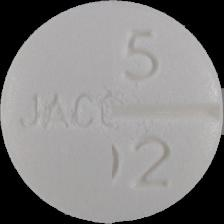54868-2817: (0, 0, 224, 224)
